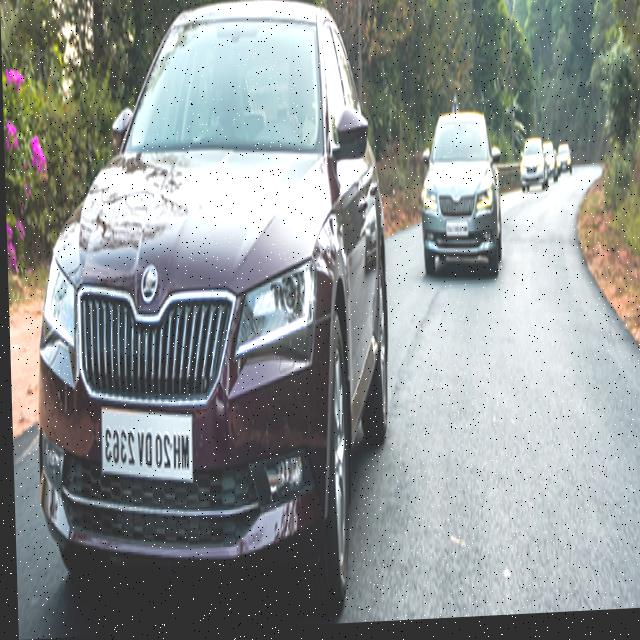plate: (94, 399, 194, 489), (444, 222, 468, 245)
